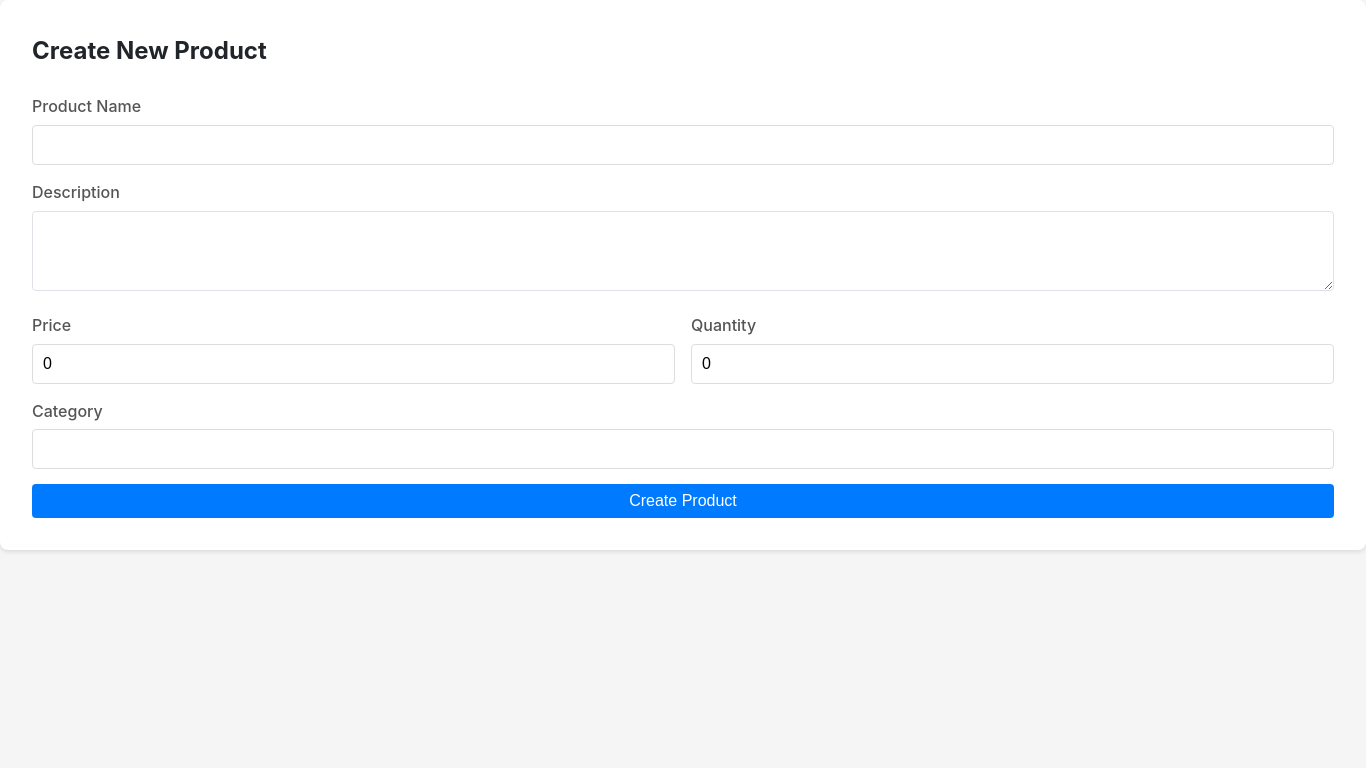
Test: ProductForm › should create product successfully
Type "Test Product" into the field labelled "Product Name" at (683, 145), box [32, 125, 1334, 165]
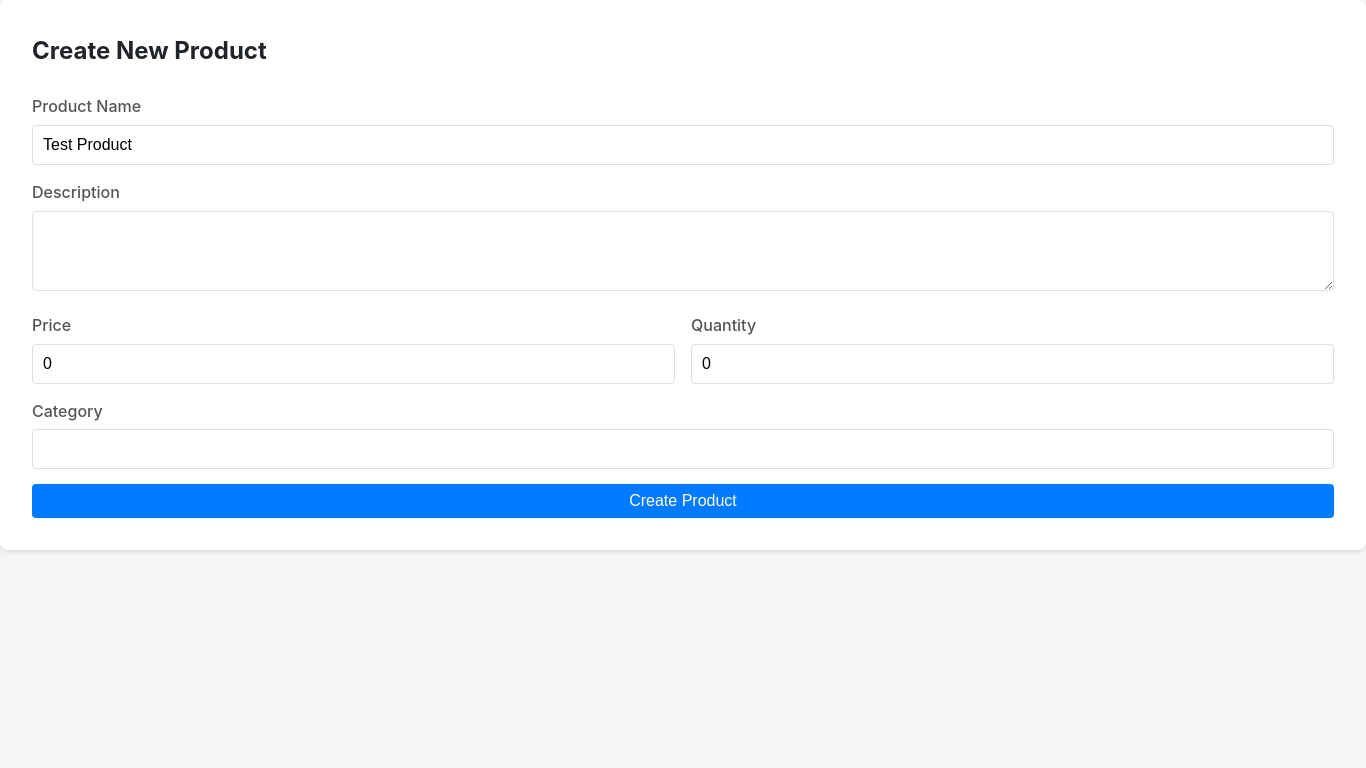
Type "Test Description" into the text box labelled "Description" at (683, 251), box [32, 211, 1334, 291]
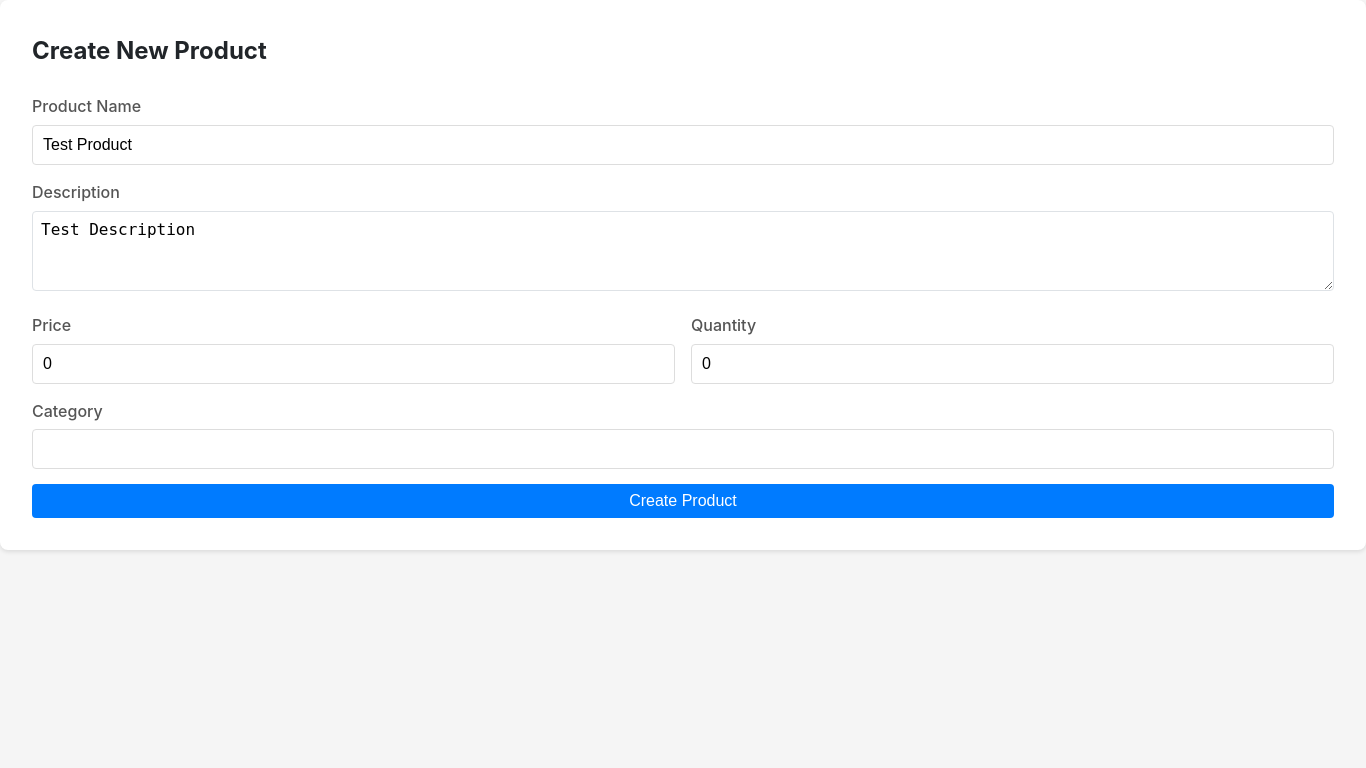
Replace the text in the number field labelled "Price" with "29.99" at (354, 364), box [32, 344, 675, 384]
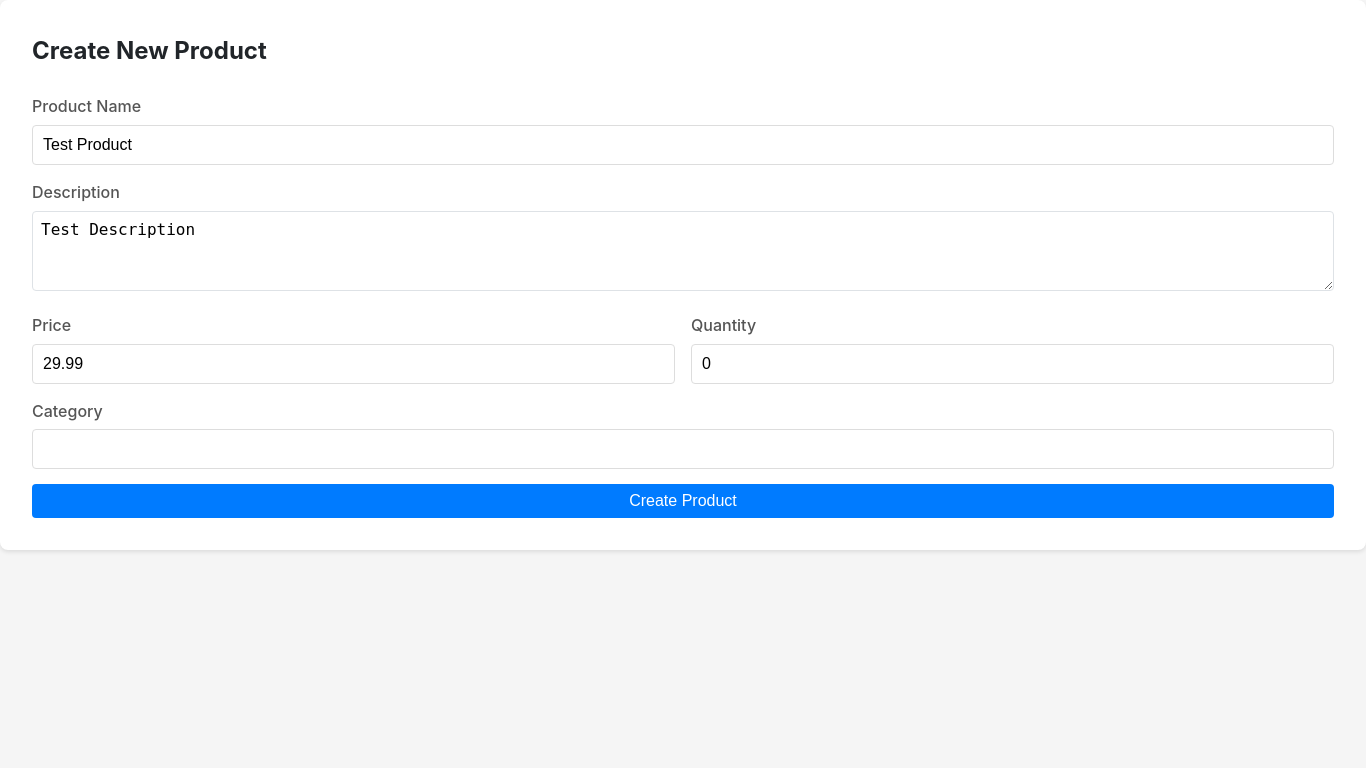
Replace the text in the number field labelled "Quantity" with "10" at (1012, 364), box [691, 344, 1334, 384]
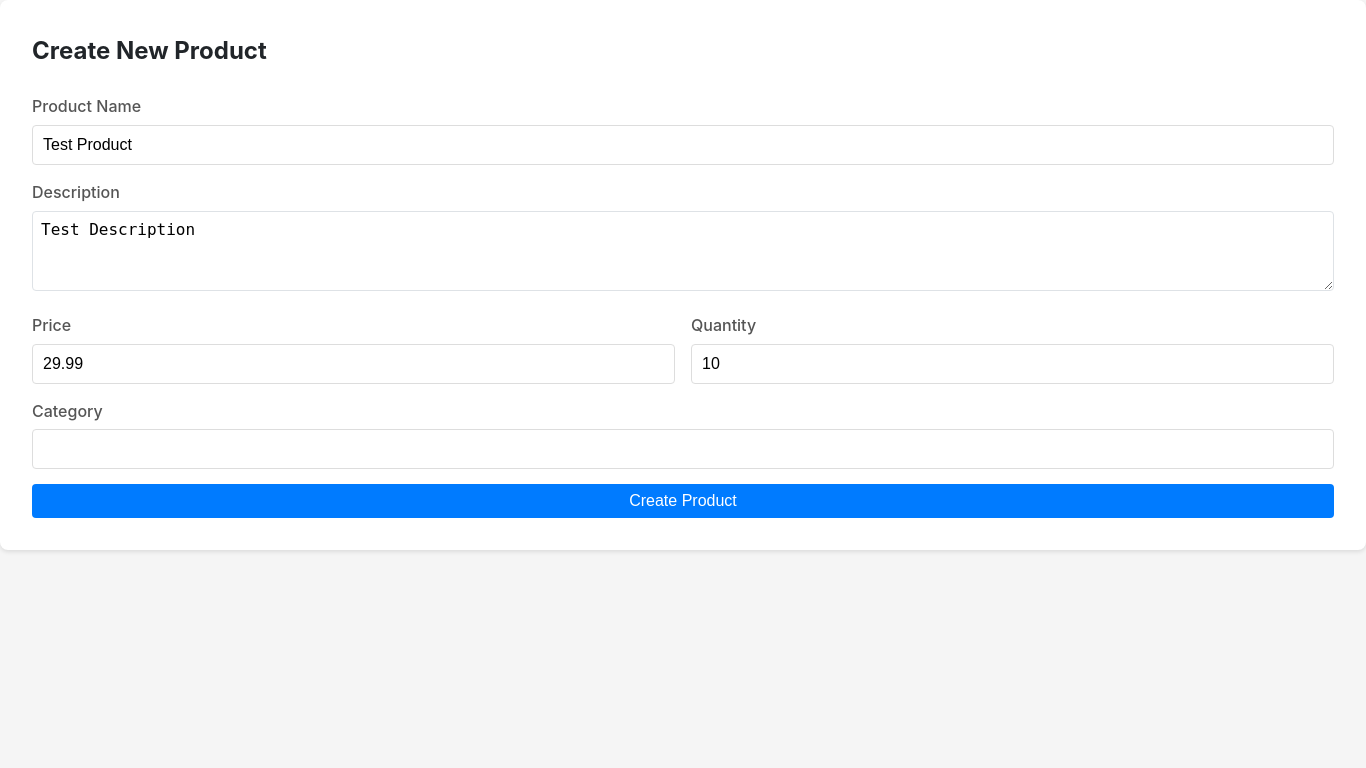
Type "Electronics" into the field labelled "Category" at (683, 449), box [32, 429, 1334, 469]
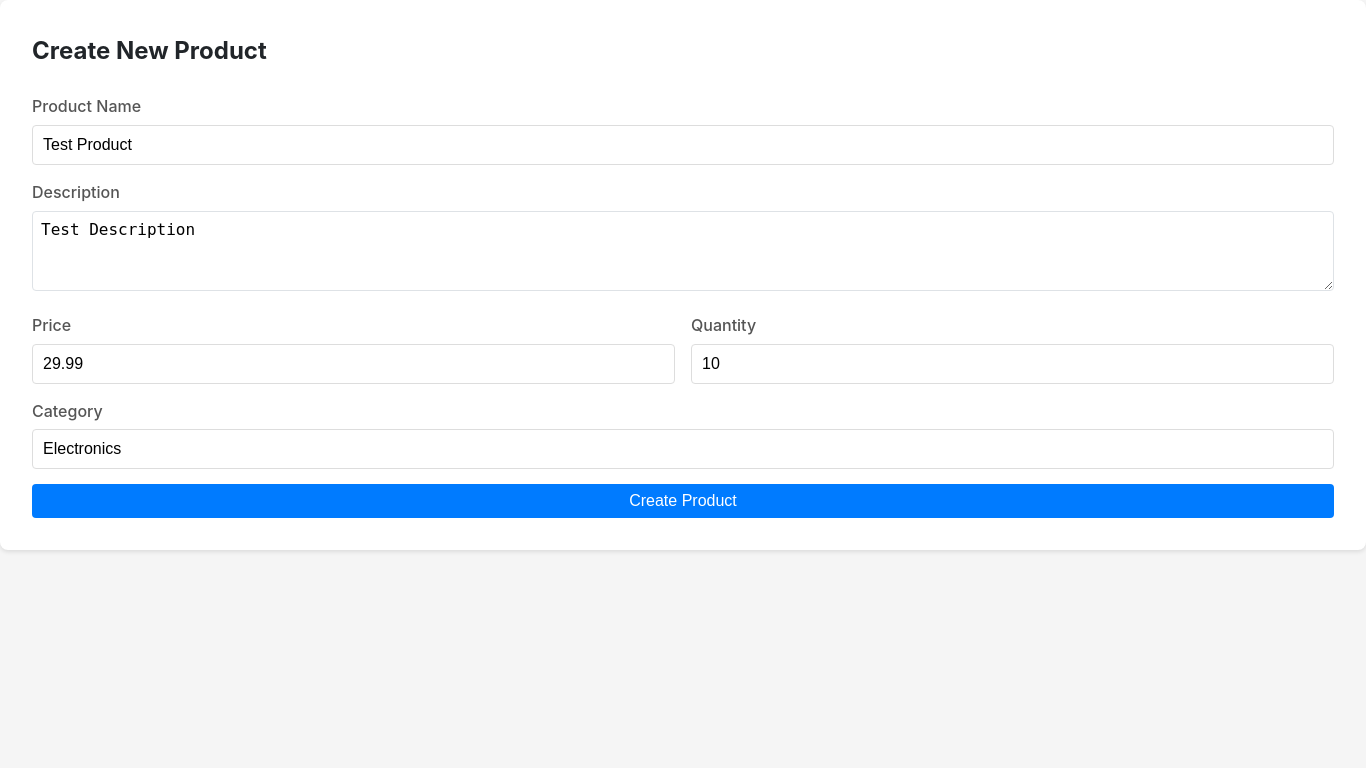
Click the button "Create Product" at (683, 501), box [32, 484, 1334, 518]
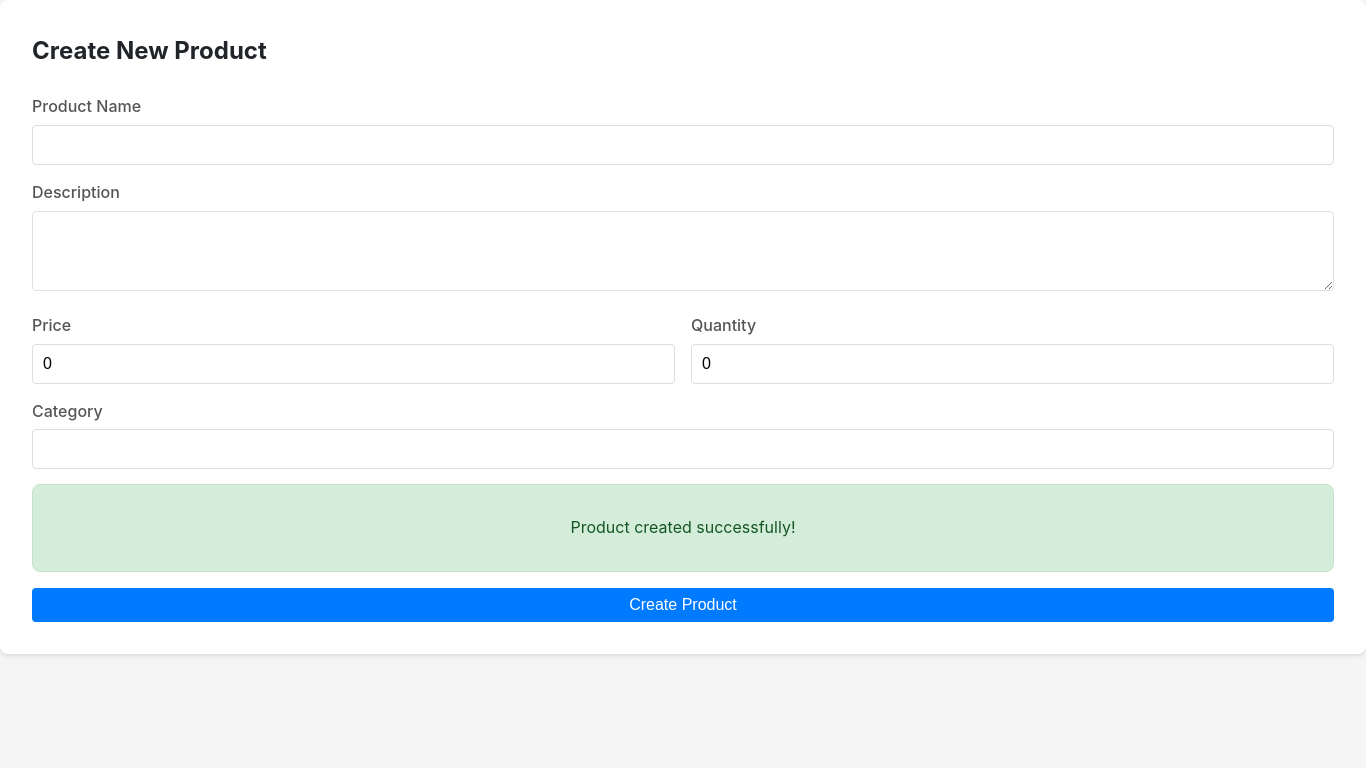
expect the text "Product created successfully!" is shown: met, box [32, 484, 1334, 572]
